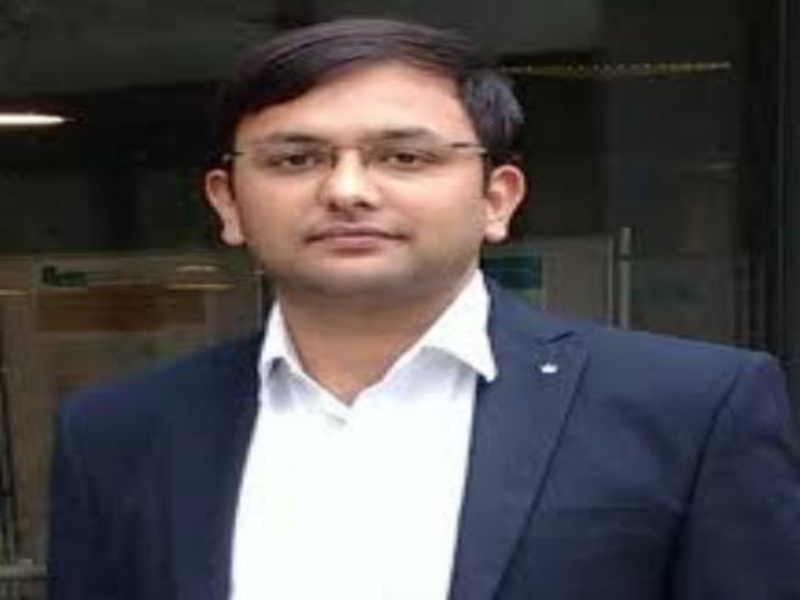TsisyArotava: (196, 15, 535, 330)
